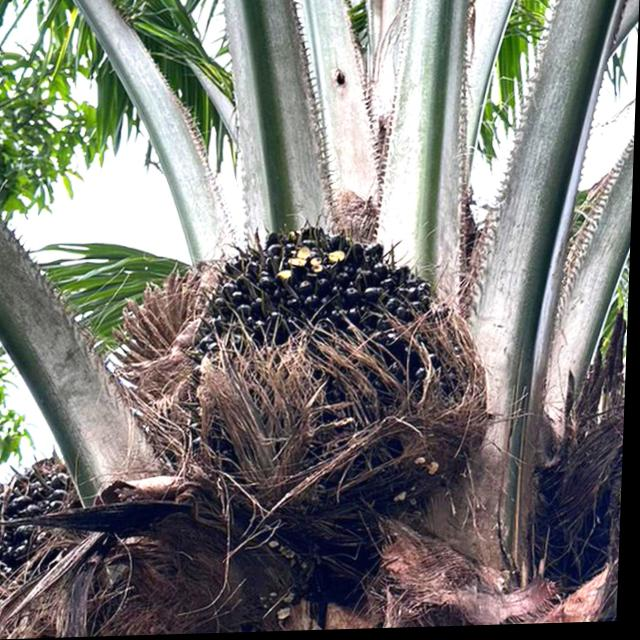unripe: (172, 210, 495, 537)
